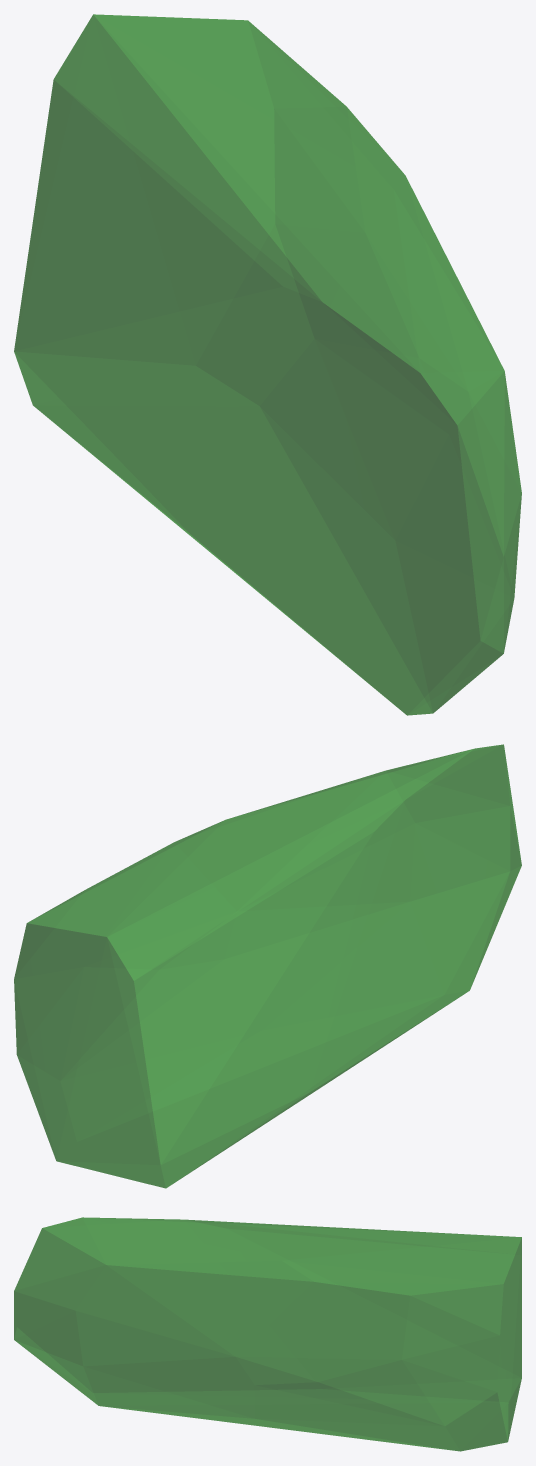
The picture shows the model from 3 angles, top to bottom: view 1: azimuth 30°, elevation 25°; view 2: azimuth 150°, elevation 25°; view 3: azimuth 270°, elevation 25°; orthographic projection. The views are drawn at different scales.
Parts seen in each view (by area): view 1: Shape_IndexedFaceSet.015_Shape_IndexedFaceSet.20392; view 2: Shape_IndexedFaceSet.015_Shape_IndexedFaceSet.20392; view 3: Shape_IndexedFaceSet.015_Shape_IndexedFaceSet.20392.
Part boxes in pixels (<box>): Shape_IndexedFaceSet.015_Shape_IndexedFaceSet.20392: <box>14,14,521,715</box>; Shape_IndexedFaceSet.015_Shape_IndexedFaceSet.20392: <box>14,744,521,1188</box>; Shape_IndexedFaceSet.015_Shape_IndexedFaceSet.20392: <box>14,1217,521,1451</box>.
Bounding box in the file's own units: 0.1575 × 0.2065 × 0.5047.
